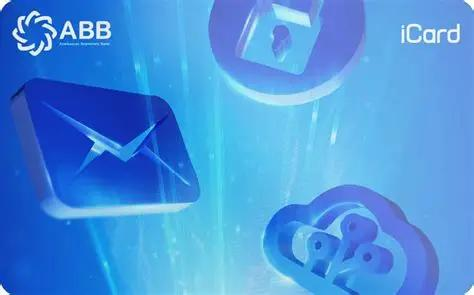ABB: (11, 7, 58, 56)
